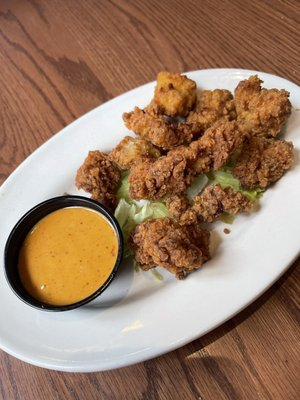sushi: (3, 195, 127, 311)
